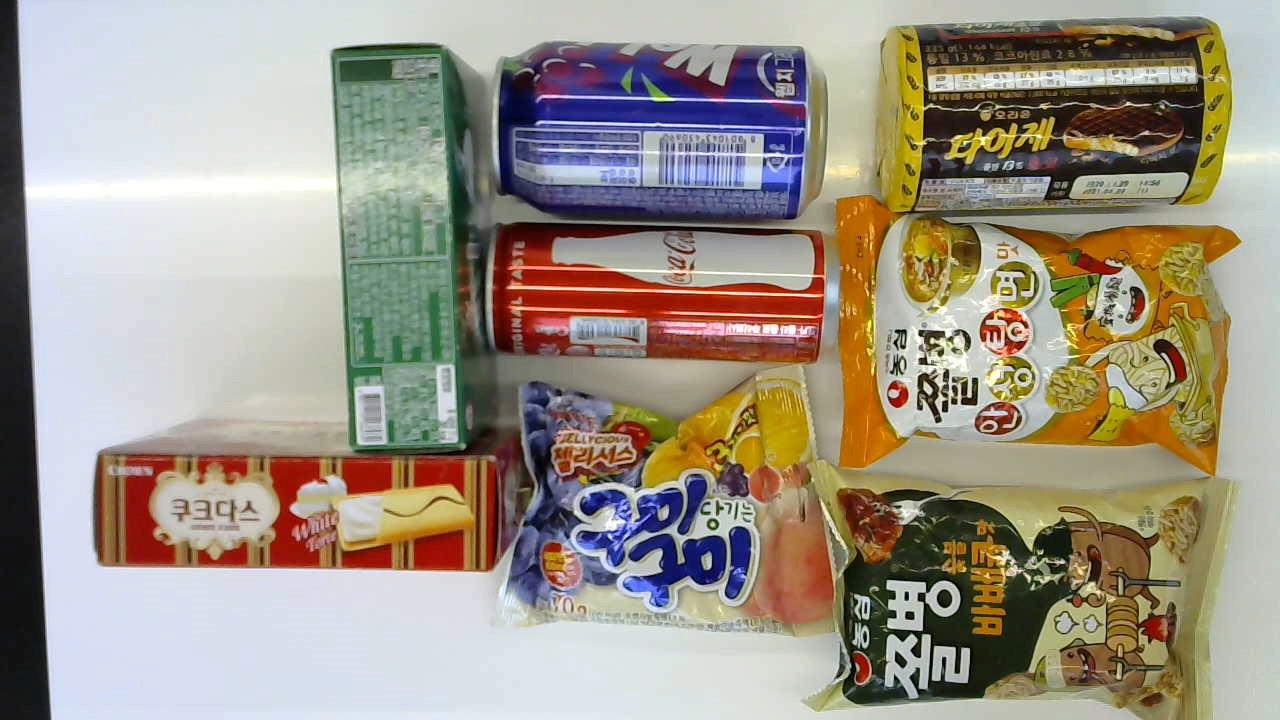coke: (479, 212, 841, 367)
couque_coffee: (319, 38, 502, 458)
couque_white: (86, 413, 532, 569)
diget_choco: (857, 9, 1237, 213)
gumi_gumi: (494, 353, 859, 637)
jjolbyung_noodle: (824, 194, 1237, 481)
jjolbyung_ori: (811, 460, 1238, 714)
welchs: (484, 39, 837, 220)
